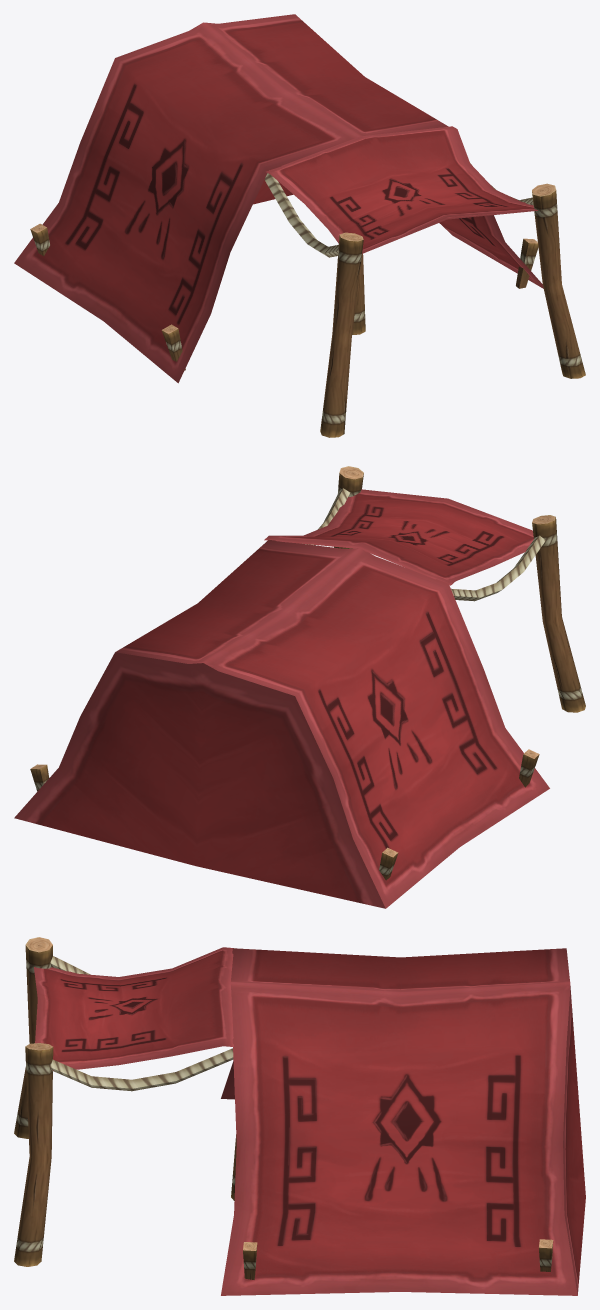
File: tent_red_06.fbx
3 renders of one model, top to bottom at view 1: azimuth 30°, elevation 25°; view 2: azimuth 150°, elevation 25°; view 3: azimuth 270°, elevation 25°, orthographic. The views are drawn at different scales.
Visible parts, largest first — view 1: tent_red_06:Mesh; view 2: tent_red_06:Mesh; view 3: tent_red_06:Mesh.
Part boxes in pixels (x1,y1,x2,y2): tent_red_06:Mesh: (14,14,585,437); tent_red_06:Mesh: (14,466,585,908); tent_red_06:Mesh: (14,937,585,1295).
Bounding box in the file's own units: 5.04 × 2.59 × 6.17.
